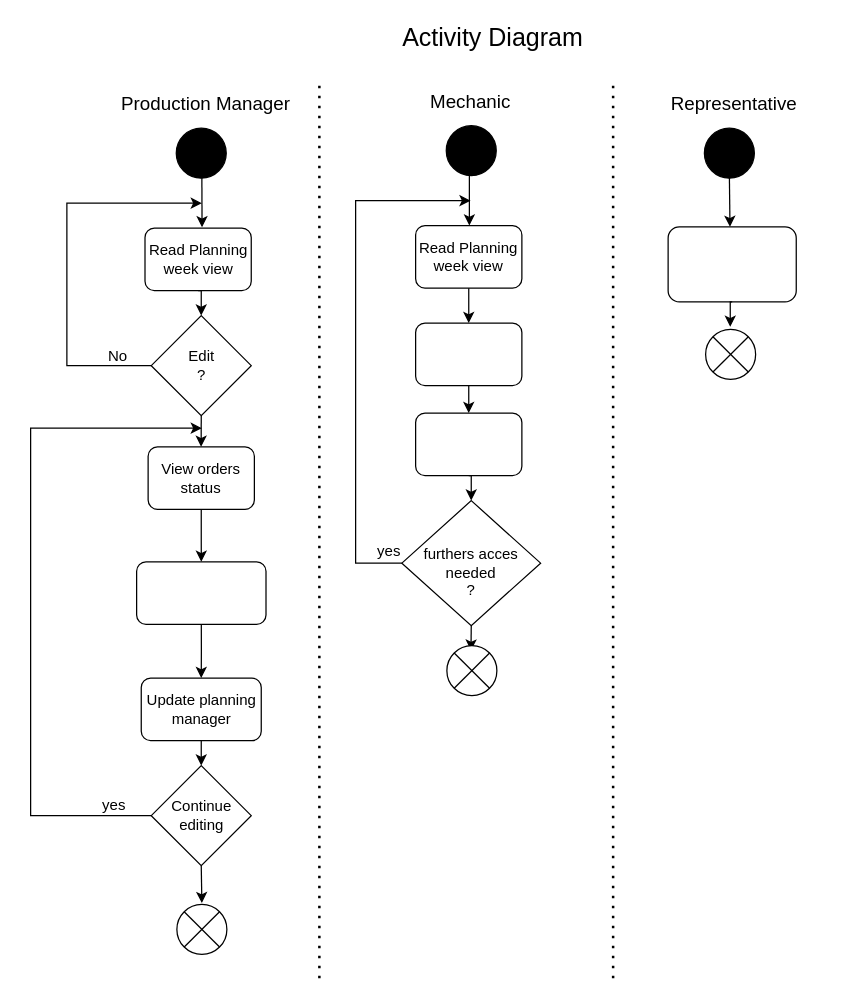
Some shapes in this 858 by 1001 pixel diagram are drawn without their labels. Here are the shapes that lost their labels. From the top down, the centre of each, then its label:
At point (731, 264): "Read /show Planning Production with client".
At point (468, 354): "Select orders in task list".
At point (468, 444): "Define or read orders status".
At point (200, 592): "Add orders to be proccesed in the schedule".
